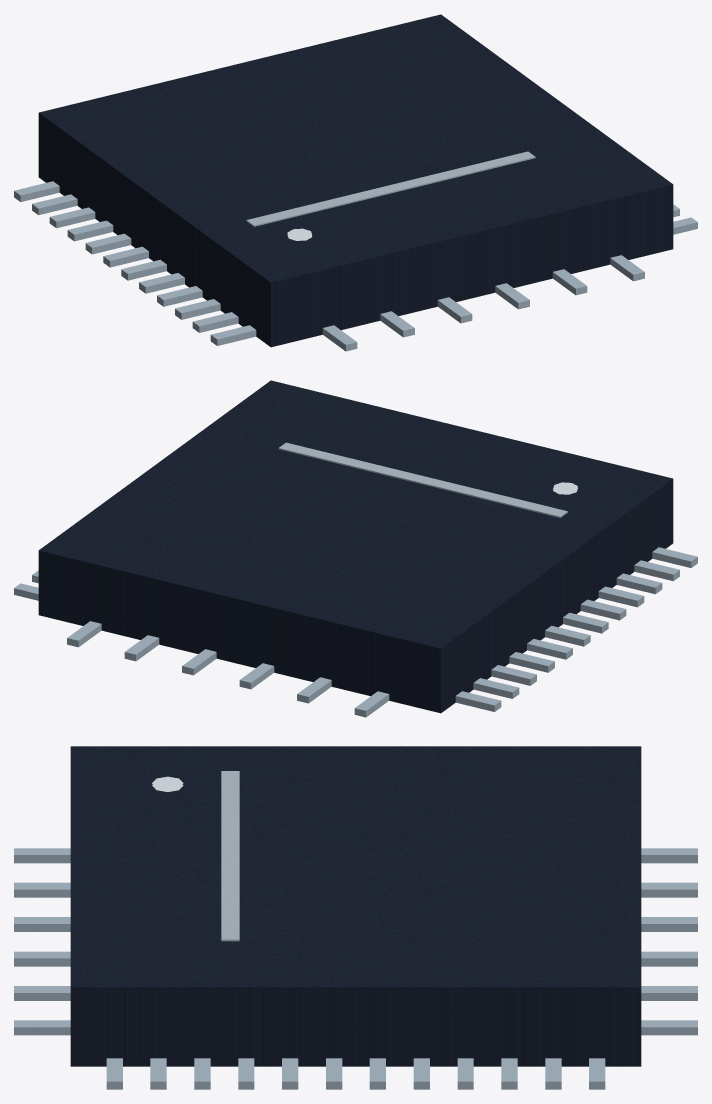
3 views of the same model, one above another, from view 1: azimuth 30°, elevation 25°; view 2: azimuth 150°, elevation 25°; view 3: azimuth 270°, elevation 25° (orthographic). The views are drawn at different scales.
Parts seen in each view (by area): view 1: Part0000__PSMAT__IC_Epoxy, Part0001__PSMAT__IC_Laser, Part0006__PSMAT__Tin_Solder, Part0005__PSMAT__Tin_Solder, Part0013__PSMAT__Tin_Solder, Part0007__PSMAT__Tin_Solder, Part0014__PSMAT__Tin_Solder, Part0003__PSMAT__Tin_Solder, Part0008__PSMAT__Tin_Solder, Part0009__PSMAT__Tin_Solder, Part0010__PSMAT__Tin_Solder, Part0012__PSMAT__Tin_Solder (+5 smaller); view 2: Part0000__PSMAT__IC_Epoxy, Part0001__PSMAT__IC_Laser, Part0011__PSMAT__Tin_Solder, Part0004__PSMAT__Tin_Solder, Part0012__PSMAT__Tin_Solder, Part0003__PSMAT__Tin_Solder, Part0010__PSMAT__Tin_Solder, Part0008__PSMAT__Tin_Solder, Part0005__PSMAT__Tin_Solder, Part0007__PSMAT__Tin_Solder, Part0009__PSMAT__Tin_Solder, Part0014__PSMAT__Tin_Solder (+5 smaller); view 3: Part0000__PSMAT__IC_Epoxy, Part0001__PSMAT__IC_Laser, Part0027__PSMAT__Tin_Solder, Part0028__PSMAT__Tin_Solder, Part0030__PSMAT__Tin_Solder, Part0032__PSMAT__Tin_Solder, Part0033__PSMAT__Tin_Solder, Part0034__PSMAT__Tin_Solder, Part0036__PSMAT__Tin_Solder, Part0038__PSMAT__Tin_Solder, Part0029__PSMAT__Tin_Solder, Part0031__PSMAT__Tin_Solder (+14 smaller).
Part boxes in pixels (x1,y1,x2,y2): Part0000__PSMAT__IC_Epoxy: [38, 14, 673, 347]; Part0001__PSMAT__IC_Laser: [246, 151, 535, 226]; Part0006__PSMAT__Tin_Solder: [67, 220, 113, 241]; Part0005__PSMAT__Tin_Solder: [49, 207, 95, 228]; Part0013__PSMAT__Tin_Solder: [192, 312, 238, 332]; Part0007__PSMAT__Tin_Solder: [85, 233, 131, 254]; Part0014__PSMAT__Tin_Solder: [210, 325, 256, 345]; Part0003__PSMAT__Tin_Solder: [14, 181, 59, 201]; Part0008__PSMAT__Tin_Solder: [103, 246, 148, 267]; Part0009__PSMAT__Tin_Solder: [121, 259, 166, 280]; Part0010__PSMAT__Tin_Solder: [139, 273, 184, 293]; Part0012__PSMAT__Tin_Solder: [175, 299, 220, 319]; Part0000__PSMAT__IC_Epoxy: [38, 380, 673, 713]; Part0001__PSMAT__IC_Laser: [278, 442, 567, 517]; Part0011__PSMAT__Tin_Solder: [598, 586, 644, 607]; Part0004__PSMAT__Tin_Solder: [473, 678, 519, 698]; Part0012__PSMAT__Tin_Solder: [616, 573, 662, 594]; Part0003__PSMAT__Tin_Solder: [455, 691, 501, 711]; Part0010__PSMAT__Tin_Solder: [580, 599, 626, 620]; Part0008__PSMAT__Tin_Solder: [545, 625, 590, 646]; Part0005__PSMAT__Tin_Solder: [491, 665, 536, 685]; Part0007__PSMAT__Tin_Solder: [527, 639, 572, 659]; Part0009__PSMAT__Tin_Solder: [563, 612, 608, 633]; Part0014__PSMAT__Tin_Solder: [652, 547, 697, 567]; Part0000__PSMAT__IC_Epoxy: [70, 746, 641, 1066]; Part0001__PSMAT__IC_Laser: [221, 771, 239, 941]; Part0027__PSMAT__Tin_Solder: [641, 848, 697, 863]; Part0028__PSMAT__Tin_Solder: [641, 882, 697, 897]; Part0030__PSMAT__Tin_Solder: [641, 951, 697, 966]; Part0032__PSMAT__Tin_Solder: [641, 1020, 697, 1035]; Part0033__PSMAT__Tin_Solder: [14, 848, 70, 863]; Part0034__PSMAT__Tin_Solder: [14, 882, 70, 897]; Part0036__PSMAT__Tin_Solder: [14, 951, 70, 966]; Part0038__PSMAT__Tin_Solder: [14, 1020, 70, 1035]; Part0029__PSMAT__Tin_Solder: [641, 917, 697, 931]; Part0031__PSMAT__Tin_Solder: [641, 986, 697, 1000].
Size of the model in its own units: 0.0167 by 0.00225 by 0.0168.
4 materials, 4 textured.
